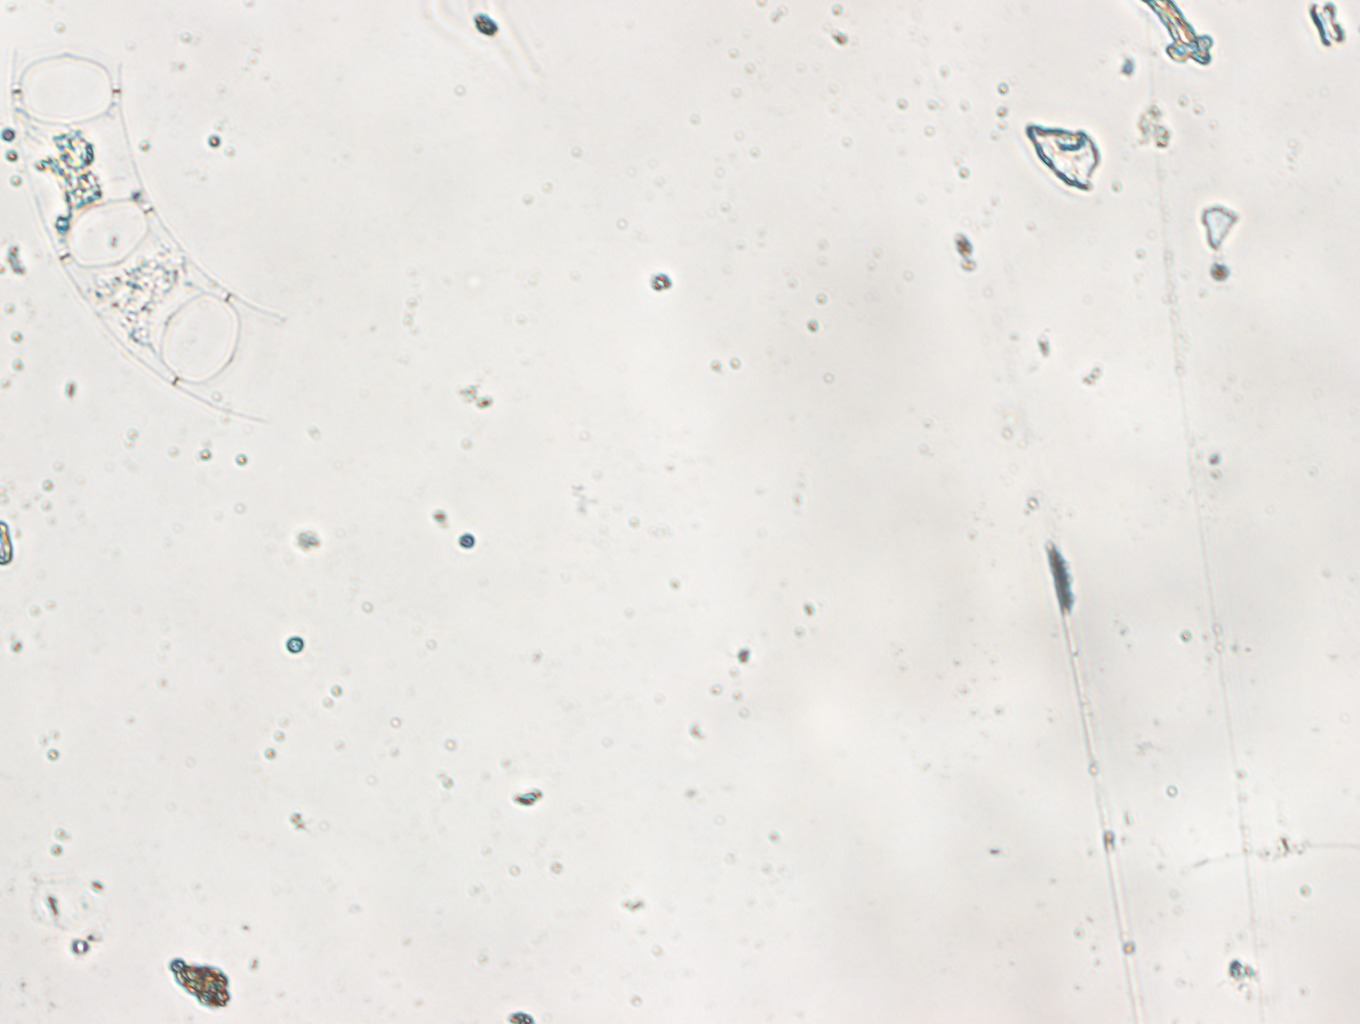eucampia: (9, 32, 287, 433)
